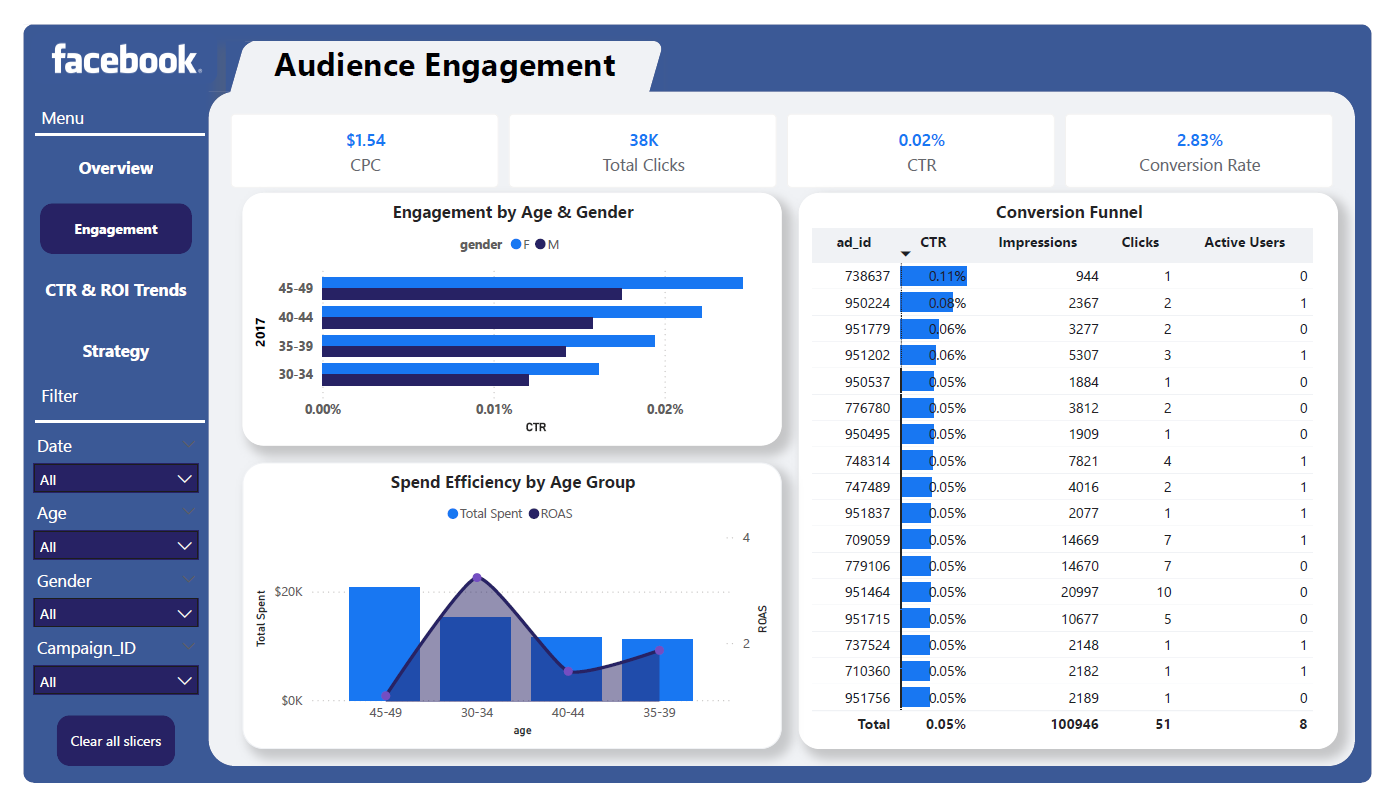

Layout of this report page (visuals, bound fields, positions):
{"tool":"powerbi","page":{"name":"Engagement","canvas":[1280,720],"ordinal":1},"visuals":[{"type":"shape","title":"bg","box":[0,0,1280,720],"z":0},{"type":"shape","box":[192,16,416,64],"z":500,"group":"g1"},{"type":"group","id":"g1","title":"Group 1","box":[176,16,1088,688],"z":1000},{"type":"shape","box":[176,64,1088,640],"z":1000,"group":"g1"},{"type":"textbox","box":[12,72.8,144,32],"z":2000},{"type":"shape","box":[12,96.8,160,16],"z":3000},{"type":"pageNavigator","box":[16,112,144,224],"z":4000},{"type":"textbox","box":[12,336.8,144,32],"z":5000},{"type":"shape","box":[12,368.8,160,16],"z":6000},{"type":"image","box":[8,8,176,48],"z":7000},{"type":"slicer","fields":{"Values":["Facebook Ads.reporting_start"]},"box":[0,384,176,64],"z":8000},{"type":"actionButton","box":[32,656,112,48],"z":9000},{"type":"slicer","fields":{"Values":["Facebook Ads.gender"]},"box":[0,512,176,64],"z":11000},{"type":"slicer","fields":{"Values":["Facebook Ads.campaign_id"]},"box":[0,576,176,64],"z":12000},{"type":"slicer","fields":{"Values":["Facebook Ads.age"]},"box":[0,448,176,64],"z":13000},{"type":"cardVisual","fields":{"Data":["_Key Measures.CPC","_Key Measures.Total Clicks","_Key Measures.CTR","_Key Measures.Conversion Rate"]},"box":[192,80,1056,80],"z":14000},{"type":"clusteredBarChart","title":"Engagement by Age & Gender","fields":{"Series":["Facebook Ads.gender"],"Category":["Facebook Ads.age"],"Y":["_Key Measures.CTR"]},"box":[208,160,512,240],"z":15000},{"type":"tableEx","title":"Conversion Funnel","fields":{"Values":["Facebook Ads.ad_id","_Key Measures.CTR","Sum(Facebook Ads.impressions)","Sum(Facebook Ads.clicks)","Sum(Facebook Ads.approved_conversion)"]},"box":[736,160,512,528],"z":16000},{"type":"lineStackedColumnComboChart","title":"Spend Efficiency by Age Group","fields":{"Category":["Facebook Ads.age"],"Y":["_Key Measures.Total Spent"],"Y2":["_Key Measures.ROAS"]},"box":[208,416,512,272],"z":17000}]}

Visuals, with their boxes in screenshot pixels (x1, y1, x2, y2), scaled from the page's 1280x720 canvas onto the 1395x806 screenshot:
"bg" shape: [x1=0, y1=0, x2=1394, y2=805]
shape: [x1=209, y1=18, x2=663, y2=90]
"Group 1" group: [x1=192, y1=18, x2=1378, y2=788]
shape: [x1=192, y1=72, x2=1378, y2=788]
textbox: [x1=13, y1=81, x2=170, y2=117]
shape: [x1=13, y1=108, x2=187, y2=126]
pageNavigator: [x1=17, y1=125, x2=174, y2=376]
textbox: [x1=13, y1=377, x2=170, y2=413]
shape: [x1=13, y1=413, x2=187, y2=431]
image: [x1=9, y1=9, x2=201, y2=63]
slicer - Facebook Ads.reporting_start: [x1=0, y1=430, x2=192, y2=502]
actionButton: [x1=35, y1=734, x2=157, y2=788]
slicer - Facebook Ads.gender: [x1=0, y1=573, x2=192, y2=645]
slicer - Facebook Ads.campaign_id: [x1=0, y1=645, x2=192, y2=716]
slicer - Facebook Ads.age: [x1=0, y1=502, x2=192, y2=573]
cardVisual - _Key Measures.CPC x _Key Measures.Total Clicks: [x1=209, y1=90, x2=1360, y2=179]
"Engagement by Age & Gender" clusteredBarChart: [x1=227, y1=179, x2=785, y2=448]
"Conversion Funnel" tableEx: [x1=802, y1=179, x2=1360, y2=770]
"Spend Efficiency by Age Group" lineStackedColumnComboChart: [x1=227, y1=466, x2=785, y2=770]
